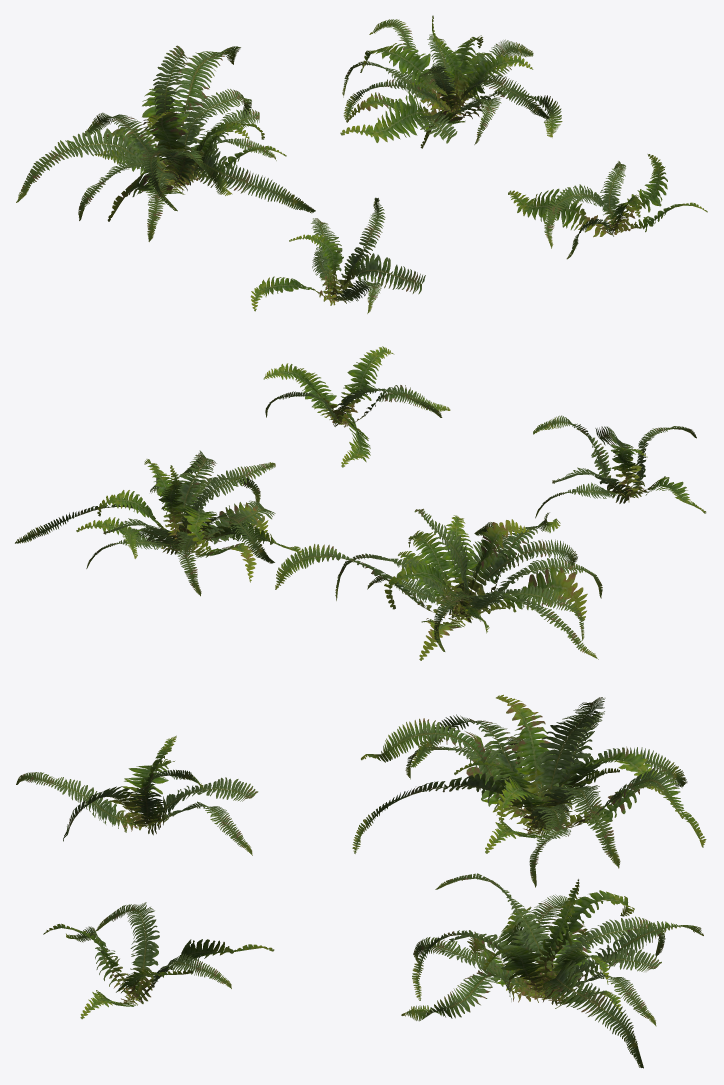
The model's file is fern_02_1k.gltf.
The picture shows the model from 3 angles, top to bottom: view 1: azimuth 30°, elevation 25°; view 2: azimuth 150°, elevation 25°; view 3: azimuth 270°, elevation 25°; orthographic projection. The views are drawn at different scales.
Visible parts, largest first — view 1: fern_02_b, fern_02_c, fern_02_a, fern_02_d; view 2: fern_02_b, fern_02_c, fern_02_d, fern_02_a; view 3: fern_02_b, fern_02_c, fern_02_a, fern_02_d.
Boxes of the visible parts, x1,y1,x2,y2 form: fern_02_b: [16, 45, 315, 241]; fern_02_c: [340, 15, 562, 148]; fern_02_a: [250, 197, 425, 313]; fern_02_d: [508, 154, 707, 259]; fern_02_b: [275, 508, 602, 660]; fern_02_c: [15, 450, 301, 596]; fern_02_d: [263, 346, 450, 467]; fern_02_a: [533, 415, 706, 518]; fern_02_b: [352, 694, 706, 887]; fern_02_c: [401, 873, 703, 1068]; fern_02_a: [16, 735, 258, 855]; fern_02_d: [43, 902, 274, 1019].
Bounding box in the file's own units: 1.97 × 0.4277 × 1.72.
1 material, 1 textured.
